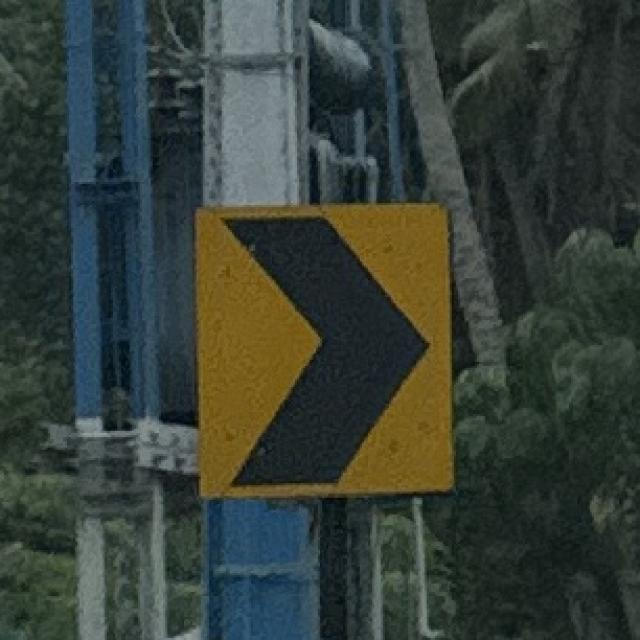TURN_RIGHT: (191, 196, 460, 505)
